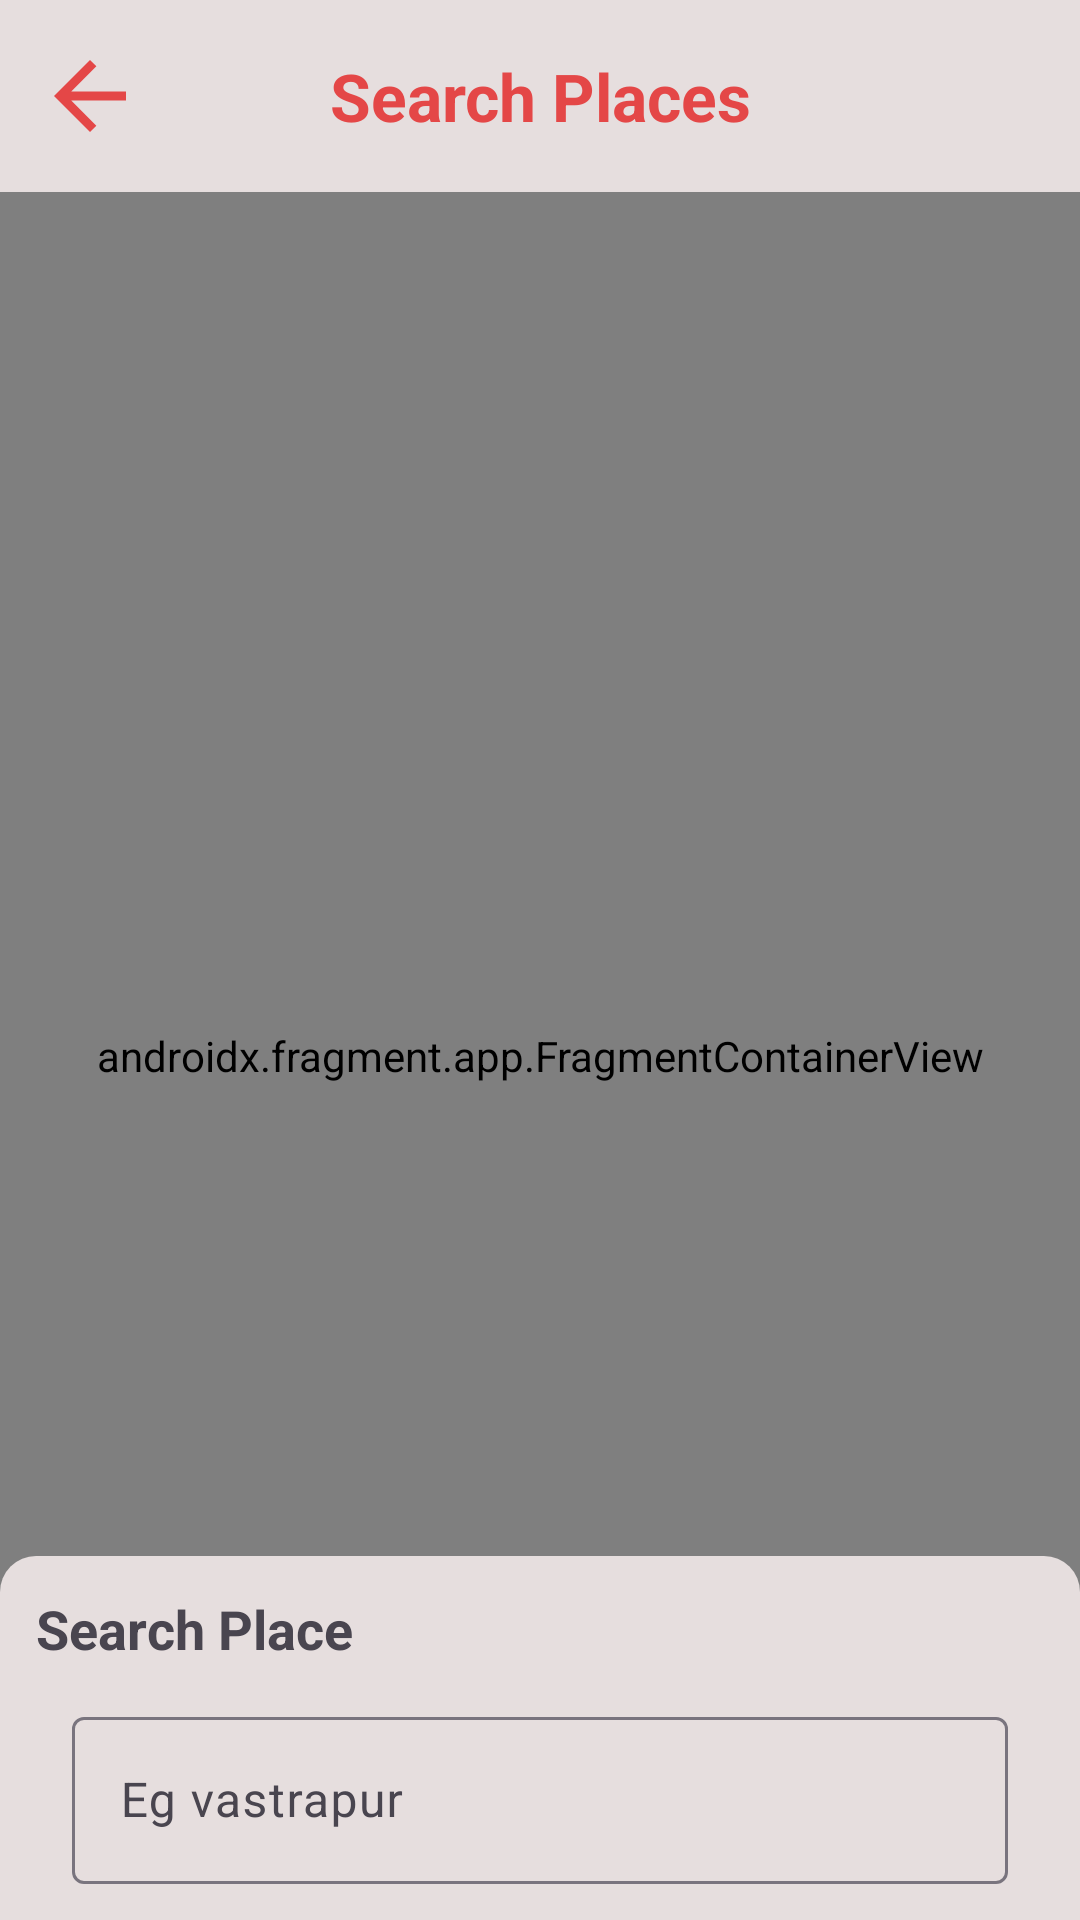

Icon bounding boxes for this 1080w x 1920h phone screenshot, format (x1, y1, x2, y2):
arrow back: (54, 60, 126, 132)
